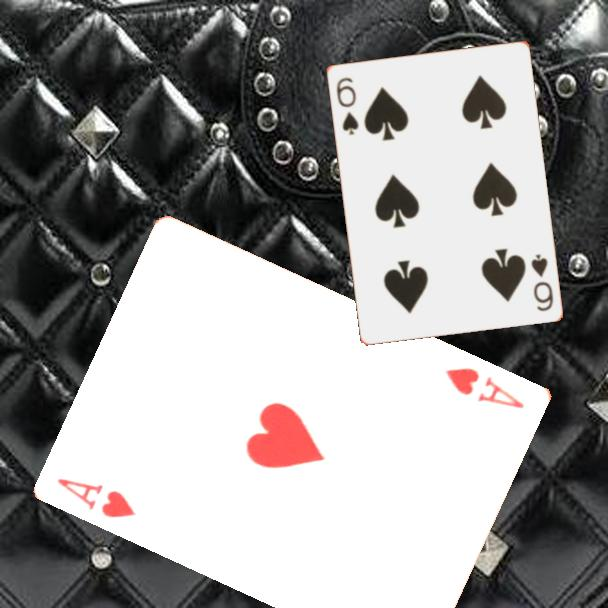h01: (442, 363, 528, 412), (54, 474, 139, 521)
s06: (332, 73, 361, 138), (527, 250, 556, 314)
